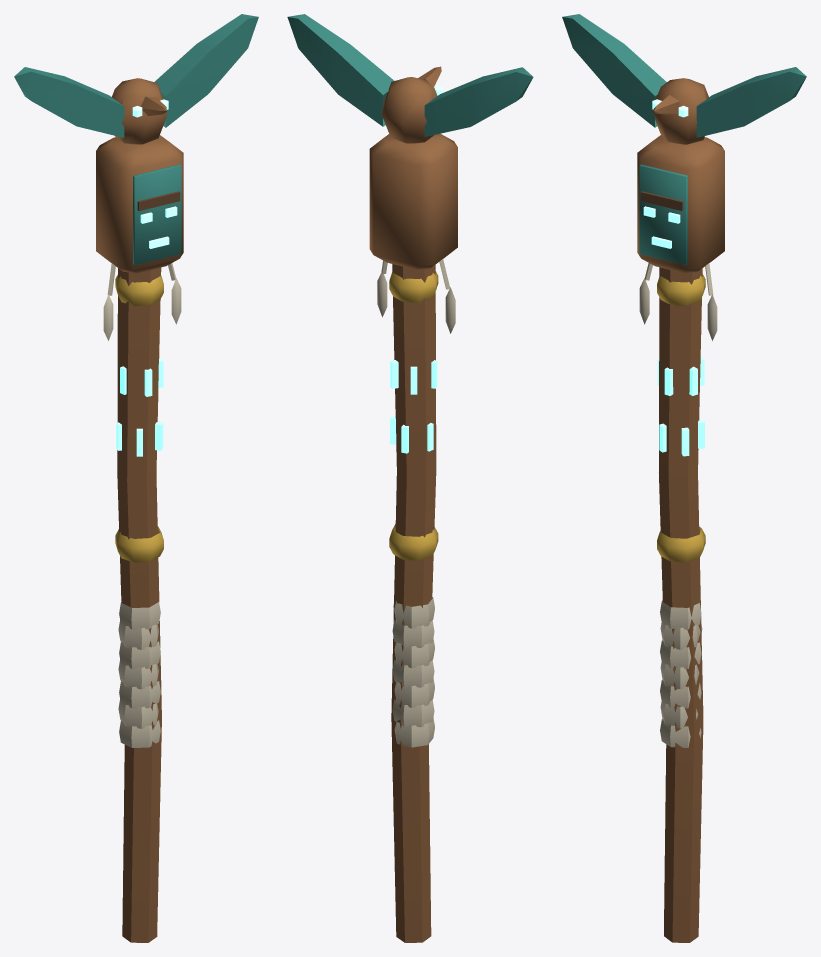
File: totem-staff-4.glb
3 views of the same model, side by side, from view 1: azimuth 30°, elevation 25°; view 2: azimuth 150°, elevation 25°; view 3: azimuth 330°, elevation 25° (orthographic).
Parts seen in each view (by area): view 1: totem-staff-4; view 2: totem-staff-4; view 3: totem-staff-4.
Part boxes in pixels (x1,y1,x2,y2): totem-staff-4: [14, 14, 258, 942]; totem-staff-4: [287, 14, 533, 942]; totem-staff-4: [562, 14, 806, 942].
Bounding box in the file's own units: 0.26 × 0.9043 × 0.0815.
